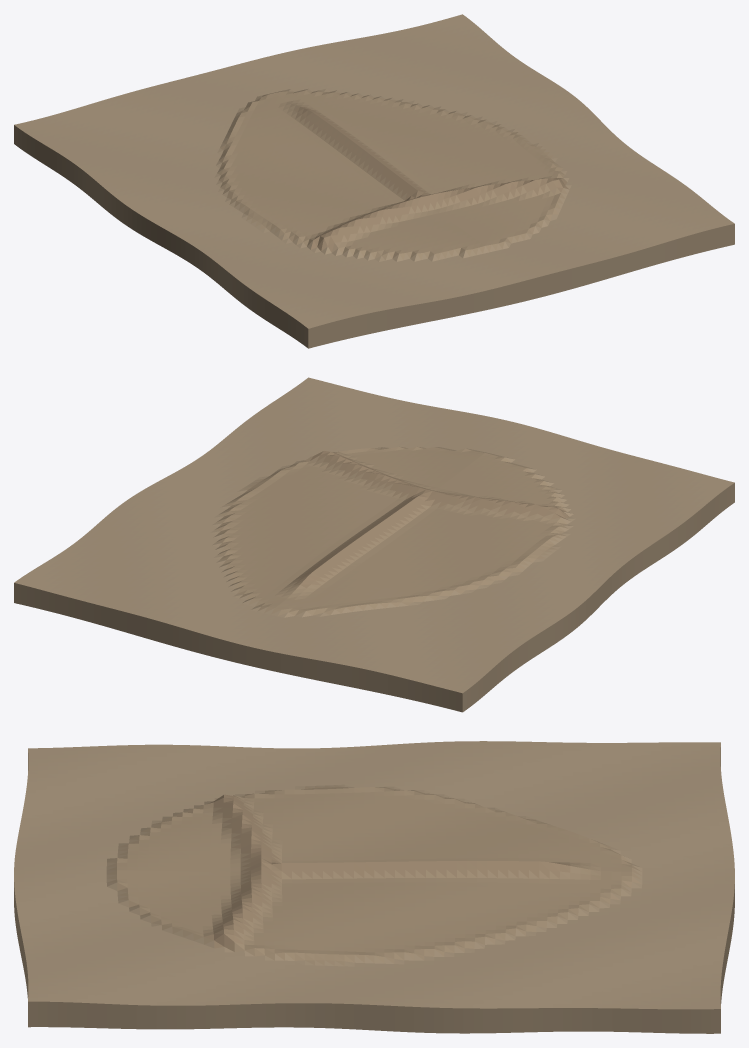
File: parvancorina-r001.glb
3 views of the same model, one above another, from view 1: azimuth 30°, elevation 25°; view 2: azimuth 150°, elevation 25°; view 3: azimuth 270°, elevation 25° (orthographic). The views are drawn at different scales.
Parts seen in each view (by area): view 1: one_shallow_shield_fossil_positive_cast_with_integral_anchor; view 2: one_shallow_shield_fossil_positive_cast_with_integral_anchor; view 3: one_shallow_shield_fossil_positive_cast_with_integral_anchor.
Boxes of the visible parts, box(x1,y1,x2,y2) form: one_shallow_shield_fossil_positive_cast_with_integral_anchor: box(14, 14, 734, 348); one_shallow_shield_fossil_positive_cast_with_integral_anchor: box(14, 377, 734, 712); one_shallow_shield_fossil_positive_cast_with_integral_anchor: box(14, 741, 734, 1033).
Size of the model in its own units: 0.0704 by 0.00476 by 0.08.
